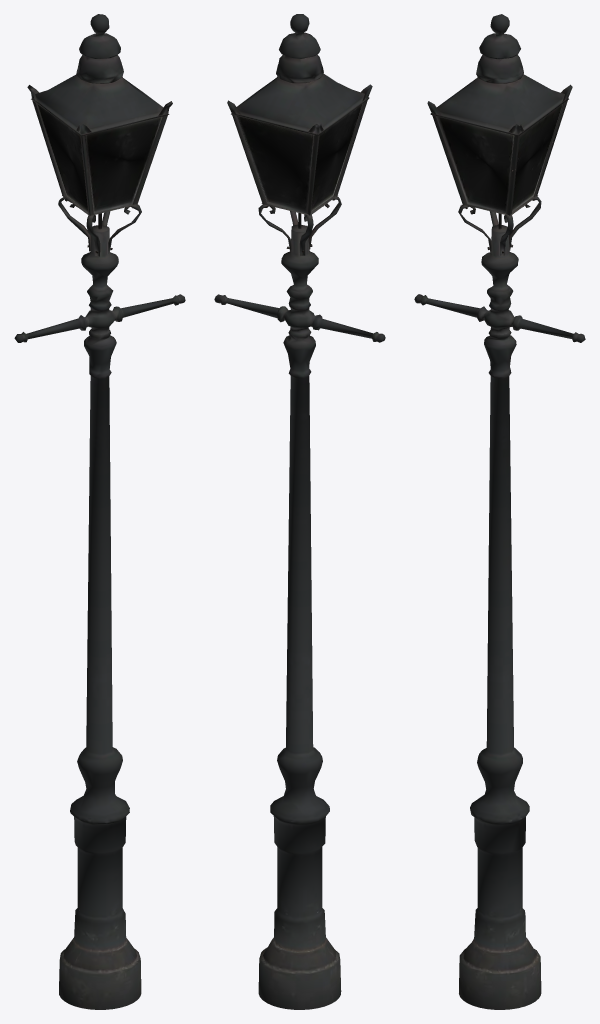
Rendered from street_lamp_01.glb.
3 views of the same model, side by side, from view 1: azimuth 30°, elevation 25°; view 2: azimuth 150°, elevation 25°; view 3: azimuth 330°, elevation 25° (orthographic).
Visible parts, largest first — view 1: street_lamp_01; view 2: street_lamp_01; view 3: street_lamp_01.
Boxes of the visible parts, x1,y1,x2,y2 form: street_lamp_01: (14,14,185,1009); street_lamp_01: (214,14,385,1009); street_lamp_01: (414,14,585,1009).
Bounding box in the file's own units: 0.6998 × 3.87 × 0.3858.
Materials: 2 (2 with a texture image).
